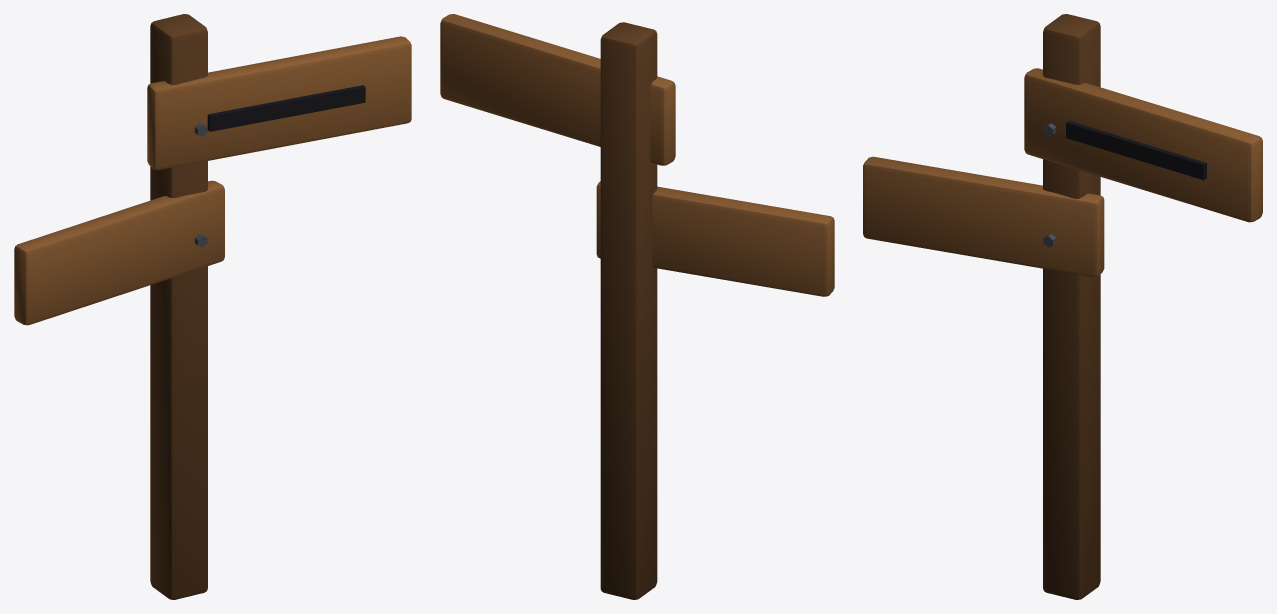
The model's file is signpost.glb.
3 renders of one model, left to right at view 1: azimuth 30°, elevation 25°; view 2: azimuth 150°, elevation 25°; view 3: azimuth 330°, elevation 25°, orthographic.
Parts seen in each view (by area): view 1: signpost; view 2: signpost; view 3: signpost.
Part boxes in pixels (x1=…): signpost: x1=14, y1=14, x2=411, y2=599; signpost: x1=440, y1=14, x2=834, y2=599; signpost: x1=863, y1=14, x2=1262, y2=599.
Bounding box in the file's own units: 1.6 × 2.2 × 0.2795.
